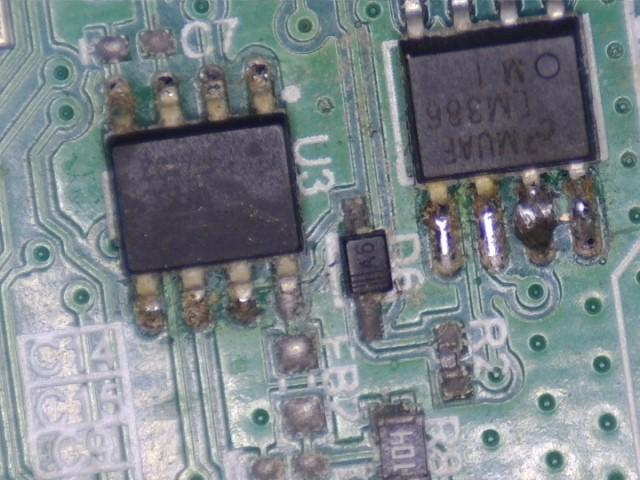pcb_defect: (369, 401, 429, 480)
